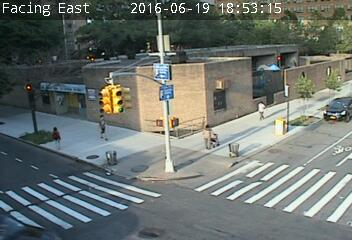neg: (101, 143, 118, 165), (273, 115, 287, 134), (225, 139, 238, 157), (322, 65, 334, 80), (297, 68, 307, 82), (300, 100, 309, 112)
pos: (44, 125, 64, 151), (196, 123, 215, 148), (93, 115, 111, 139), (254, 100, 269, 120)
